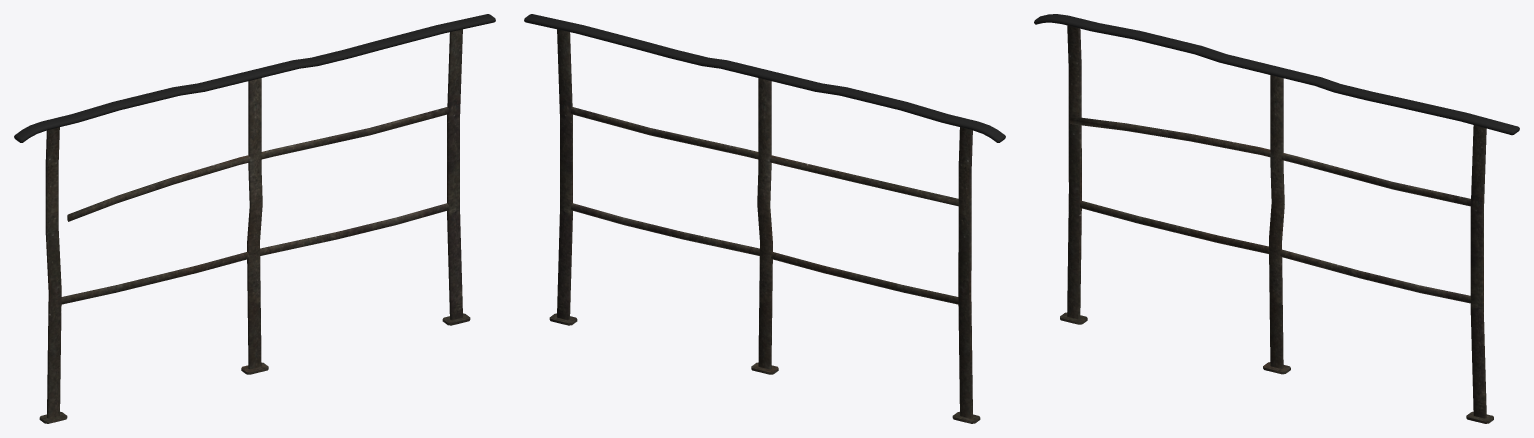
Rendered from hand_rail_3.fbx.
The picture shows the model from 3 angles, left to right: view 1: azimuth 30°, elevation 25°; view 2: azimuth 150°, elevation 25°; view 3: azimuth 330°, elevation 25°; orthographic projection.
Visible parts, largest first — view 1: hand_rail_3; view 2: hand_rail_3; view 3: hand_rail_3.
Boxes of the visible parts, x1=… form: hand_rail_3: x1=14, y1=14, x2=495, y2=423; hand_rail_3: x1=524, y1=14, x2=1005, y2=423; hand_rail_3: x1=1034, y1=14, x2=1519, y2=423.
Bounding box in the file's own units: 2.13 × 0.1054 × 1.28.
